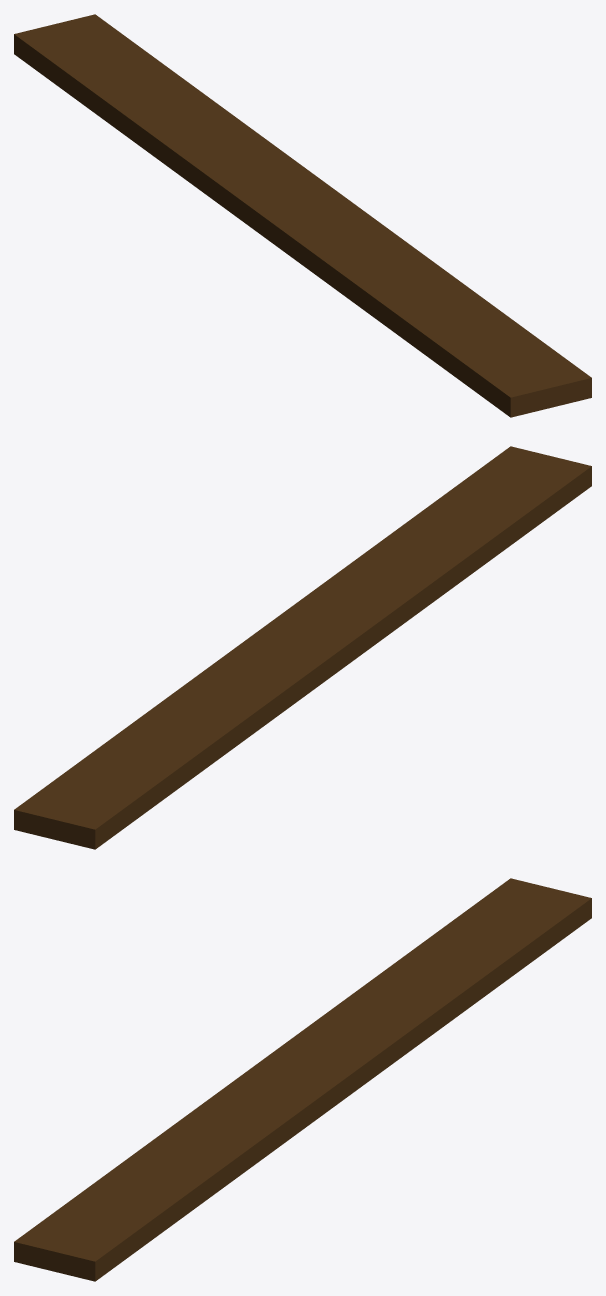
Rendered from BirdHouse_Roof.fbx.
The picture shows the model from 3 angles, top to bottom: view 1: azimuth 30°, elevation 25°; view 2: azimuth 150°, elevation 25°; view 3: azimuth 330°, elevation 25°; orthographic projection.
Parts seen in each view (by area): view 1: Dachbalken; view 2: Dachbalken; view 3: Dachbalken.
Boxes of the visible parts, <box> form: Dachbalken: <box>14,14,591,417</box>; Dachbalken: <box>14,446,591,849</box>; Dachbalken: <box>14,878,591,1281</box>.
Size of the model in its own units: 64.4 by 15.16 by 681.
